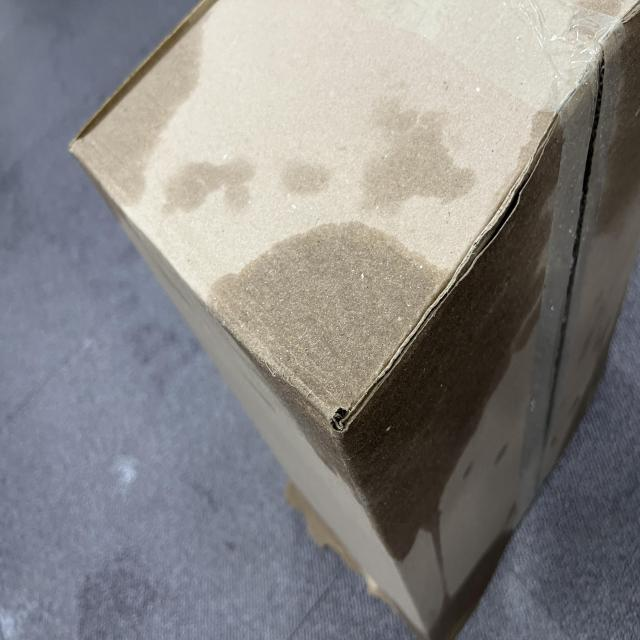wet: (99, 320, 399, 640), (321, 98, 475, 276)
